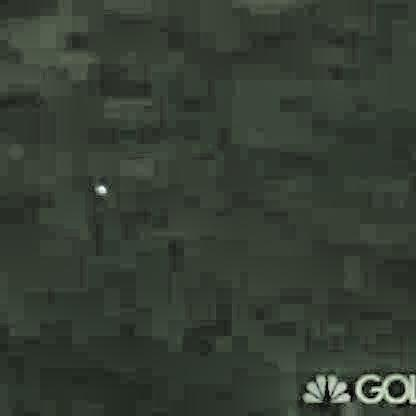golfball: (93, 184, 104, 194)
